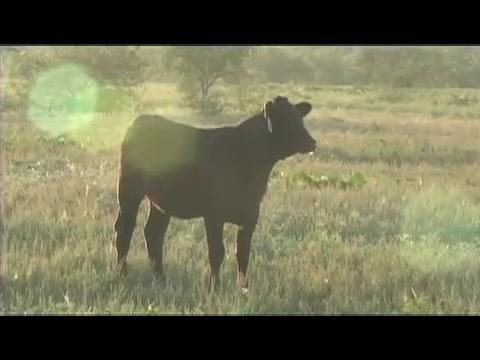cow: (115, 95, 321, 289)
